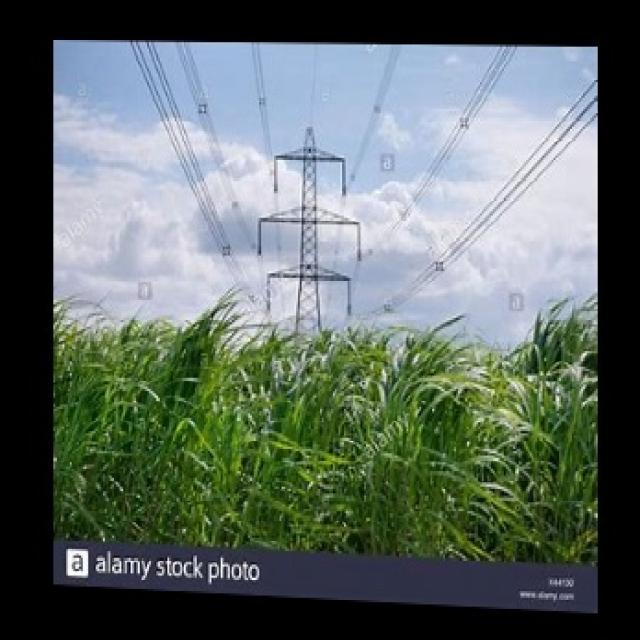utility poles: (263, 119, 357, 546)
